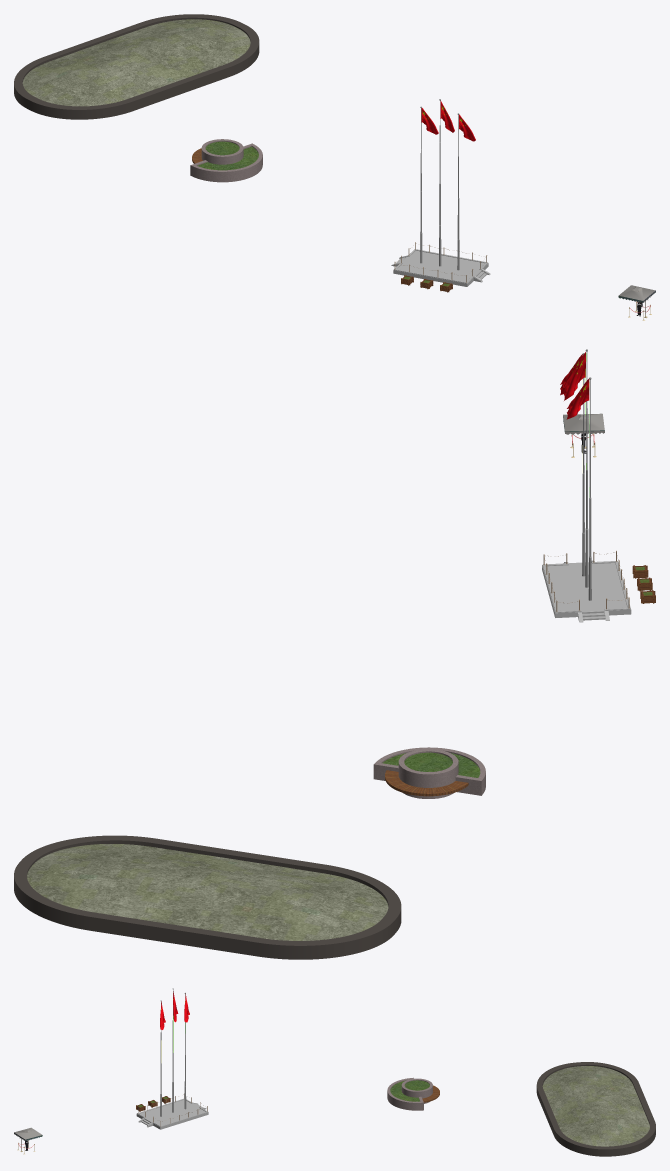
Rendered from 地面景观.glb.
3 renders of one model, top to bottom at view 1: azimuth 30°, elevation 25°; view 2: azimuth 150°, elevation 25°; view 3: azimuth 270°, elevation 25°, orthographic. The views are drawn at different scales.
Visible parts, largest first — view 1: 地面布置_primitive23, 地面布置_primitive22, 地面布置_primitive20, 地面布置_primitive11, 地面布置_primitive19, 地面布置_primitive10, 地面布置_primitive8, 地面布置_primitive9; view 2: 地面布置_primitive23, 地面布置_primitive22, 地面布置_primitive11, 地面布置_primitive20, 地面布置_primitive10, 地面布置_primitive8, 地面布置_primitive19, 地面布置_primitive9, 地面布置_primitive21; view 3: 地面布置_primitive23, 地面布置_primitive22, 地面布置_primitive11, 地面布置_primitive20, 地面布置_primitive8, 地面布置_primitive10, 地面布置_primitive19, 地面布置_primitive9.
Part boxes in pixels (x1=…): 地面布置_primitive23: x1=22, y1=19, x2=250, y2=106; 地面布置_primitive22: x1=14, y1=14, x2=259, y2=119; 地面布置_primitive20: x1=190, y1=139, x2=262, y2=182; 地面布置_primitive11: x1=397, y1=250, x2=484, y2=281; 地面布置_primitive19: x1=197, y1=141, x2=258, y2=170; 地面布置_primitive10: x1=420, y1=99, x2=459, y2=270; 地面布置_primitive8: x1=391, y1=249, x2=490, y2=286; 地面布置_primitive9: x1=421, y1=100, x2=475, y2=141; 地面布置_primitive23: x1=27, y1=844, x2=388, y2=940; 地面布置_primitive22: x1=14, y1=835, x2=401, y2=959; 地面布置_primitive11: x1=546, y1=563, x2=626, y2=610; 地面布置_primitive20: x1=373, y1=747, x2=485, y2=798; 地面布置_primitive10: x1=582, y1=349, x2=591, y2=600; 地面布置_primitive8: x1=542, y1=560, x2=631, y2=622; 地面布置_primitive19: x1=382, y1=752, x2=480, y2=777; 地面布置_primitive9: x1=560, y1=352, x2=589, y2=419; 地面布置_primitive21: x1=385, y1=770, x2=468, y2=796; 地面布置_primitive23: x1=542, y1=1066, x2=649, y2=1146; 地面布置_primitive22: x1=536, y1=1062, x2=655, y2=1156; 地面布置_primitive11: x1=140, y1=1100, x2=205, y2=1125; 地面布置_primitive20: x1=387, y1=1077, x2=432, y2=1110; 地面布置_primitive8: x1=136, y1=1098, x2=208, y2=1129; 地面布置_primitive10: x1=160, y1=988, x2=186, y2=1116; 地面布置_primitive19: x1=390, y1=1080, x2=429, y2=1101; 地面布置_primitive9: x1=160, y1=991, x2=189, y2=1029.
Size of the model in its own units: 26.59 by 17.57 by 77.84.
24 materials, 9 textured.
